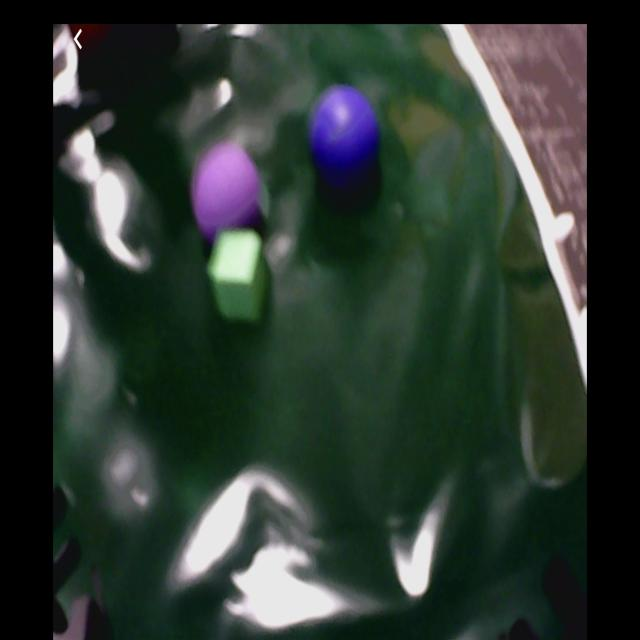ball: (310, 86, 381, 185), (193, 146, 260, 236)
